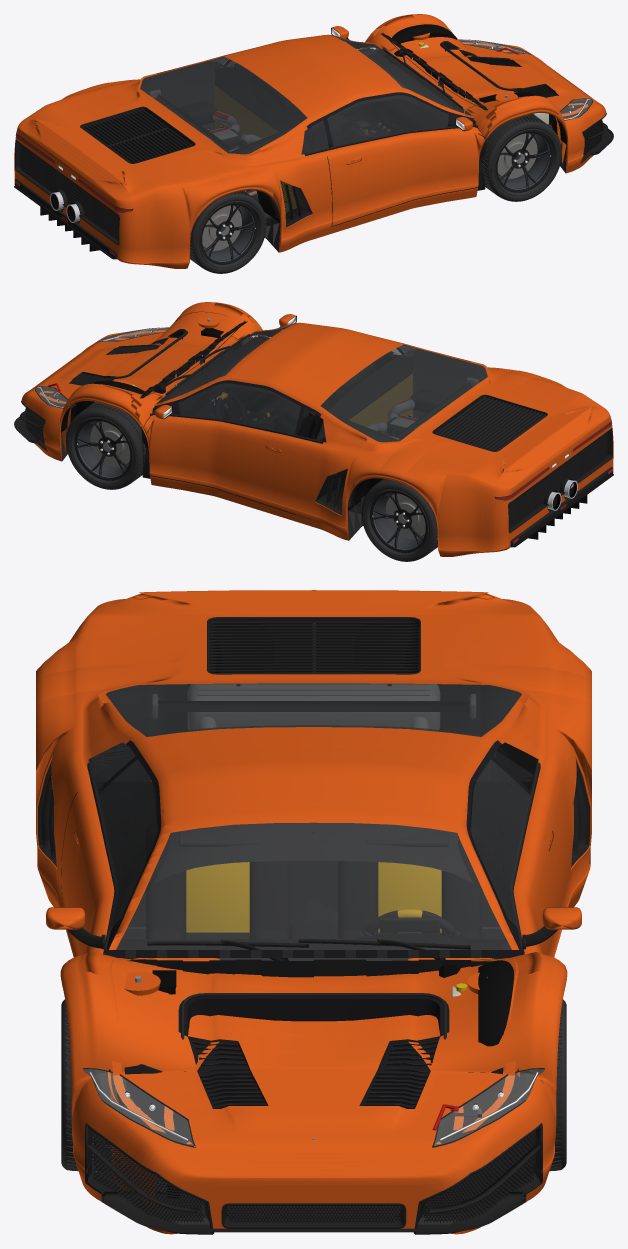
The model's file is hyper_studio.glb.
The picture shows the model from 3 angles, top to bottom: view 1: azimuth 30°, elevation 25°; view 2: azimuth 150°, elevation 25°; view 3: azimuth 270°, elevation 25°; orthographic projection. The views are drawn at different scales.
Visible parts, largest first — view 1: body, hood, wheel_fr, wheel_rr, bay, lamp_head, under, lamp_tail; view 2: body, hood, wheel_fl, wheel_rl, bay, lamp_head, under, lamp_tail; view 3: body, hood, bay, lamp_head, wheel_fr, wheel_fl.
Boxes of the visible parts, left/top/right/bottom form: body: left=14, top=14, right=613, bottom=268; hood: left=383, top=19, right=596, bottom=116; wheel_fr: left=481, top=114, right=561, bottom=201; wheel_rr: left=190, top=191, right=266, bottom=273; bay: left=380, top=24, right=578, bottom=162; lamp_head: left=458, top=39, right=591, bottom=119; under: left=255, top=106, right=566, bottom=252; lamp_tail: left=15, top=132, right=132, bottom=222; body: left=14, top=302, right=613, bottom=556; hood: left=31, top=307, right=244, bottom=403; wheel_fl: left=66, top=402, right=146, bottom=489; wheel_rl: left=361, top=479, right=437, bottom=561; bay: left=46, top=312, right=247, bottom=450; lamp_head: left=36, top=327, right=169, bottom=407; under: left=61, top=392, right=364, bottom=540; lamp_tail: left=495, top=420, right=612, bottom=510; body: left=36, top=590, right=591, bottom=1234; hood: left=99, top=954, right=528, bottom=1149; bay: left=104, top=950, right=523, bottom=1207; lamp_head: left=84, top=1069, right=543, bottom=1145; wheel_fr: left=61, top=999, right=136, bottom=1171; wheel_fl: left=533, top=999, right=566, bottom=1171.
Size of the model in its own units: 4.7 by 1.12 by 2.2.
